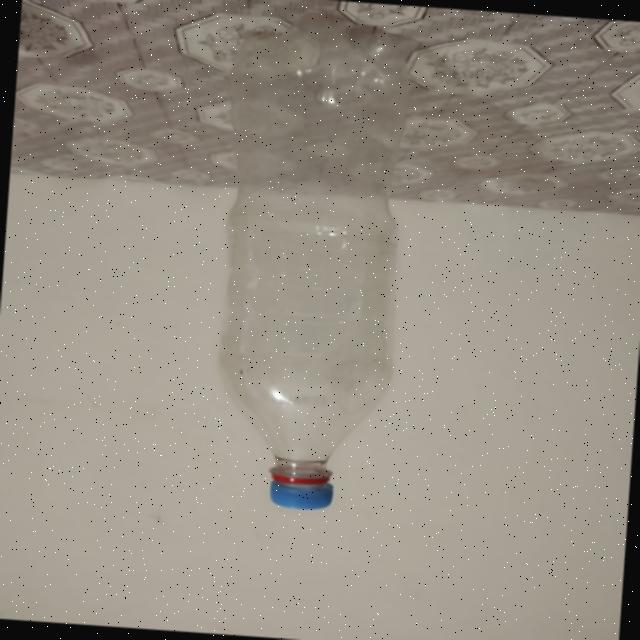bottle: (209, 11, 415, 516)
cap: (268, 474, 336, 511)
